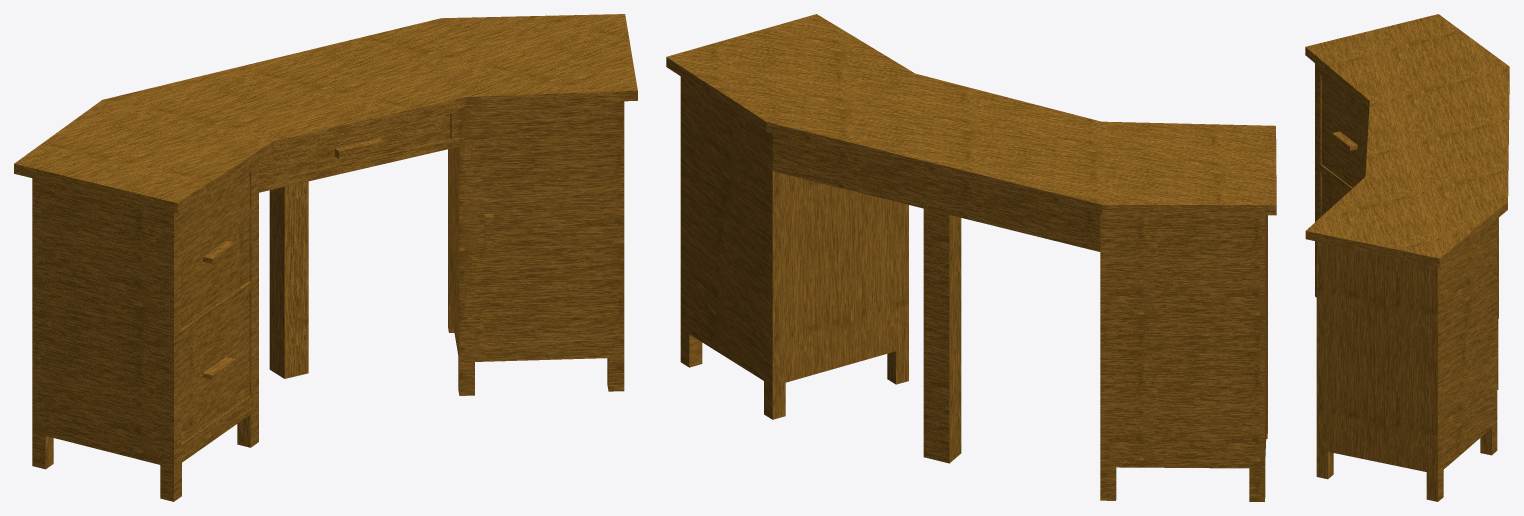
The model's file is ComputerDesk.FBX.
The picture shows the model from 3 angles, left to right: view 1: azimuth 30°, elevation 25°; view 2: azimuth 150°, elevation 25°; view 3: azimuth 270°, elevation 25°; orthographic projection. The views are drawn at different scales.
Visible parts, largest first — view 1: Box002; view 2: Box002; view 3: Box002.
Boxes of the visible parts, x1=… form: Box002: x1=14, y1=14, x2=637, y2=501; Box002: x1=666, y1=14, x2=1276, y2=501; Box002: x1=1305, y1=14, x2=1509, y2=501.
Bounding box in the file's own units: 191 × 90.58 × 67.48.
Materials: 1 (1 with a texture image).
